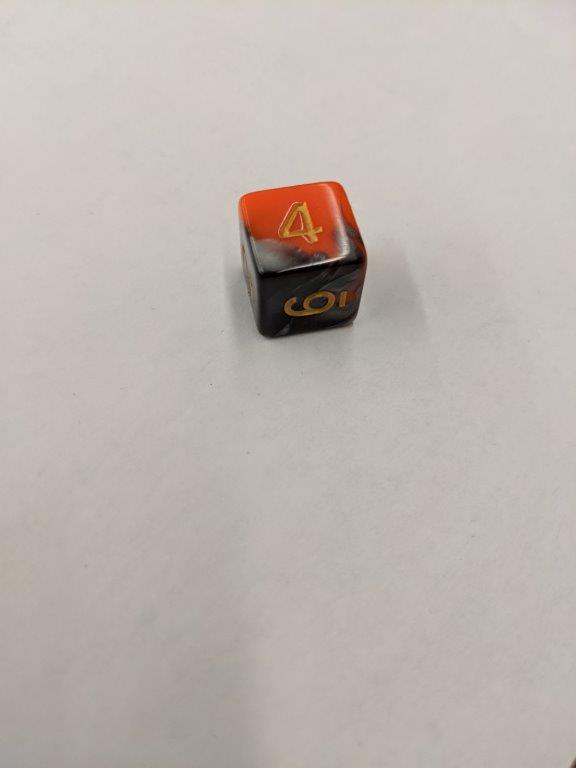d6-4: (234, 177, 371, 345)
